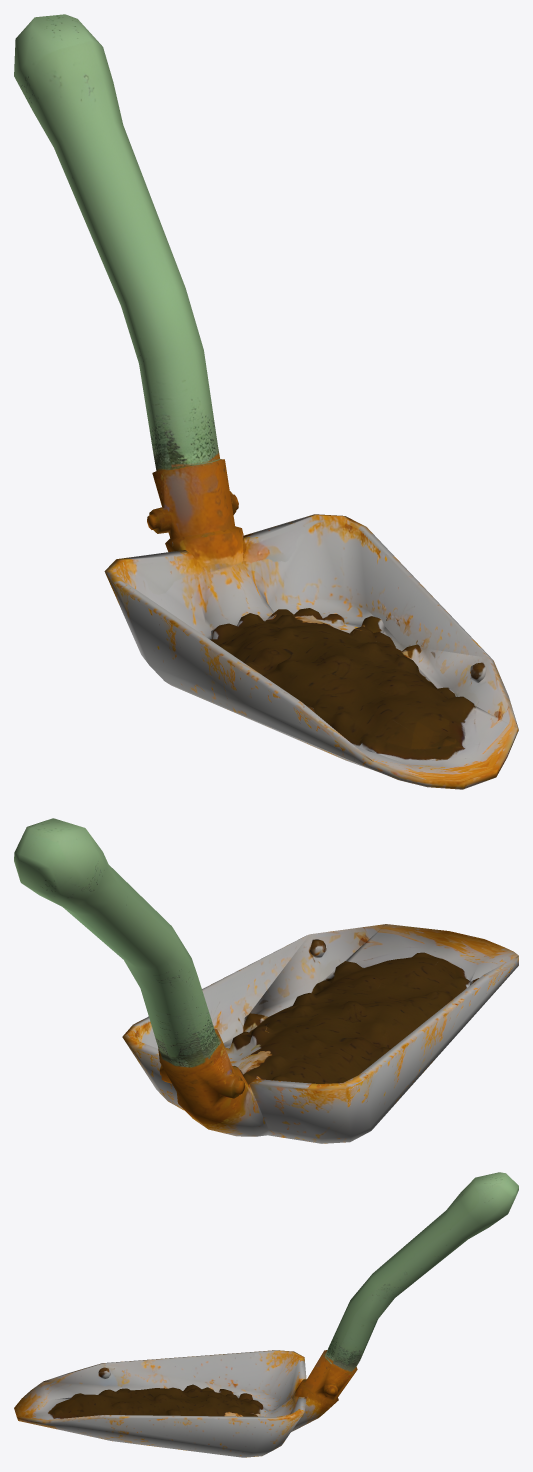
The picture shows the model from 3 angles, top to bottom: view 1: azimuth 30°, elevation 25°; view 2: azimuth 150°, elevation 25°; view 3: azimuth 270°, elevation 25°; orthographic projection. The views are drawn at different scales.
Parts seen in each view (by area): view 1: material; view 2: material; view 3: material.
Boxes of the visible parts, x1,y1,x2,y2 form: material: [14, 14, 518, 789]; material: [14, 818, 518, 1143]; material: [14, 1172, 518, 1457].
Size of the model in its own units: 59.95 by 107 by 190.
Materials: 1 (1 with a texture image).
